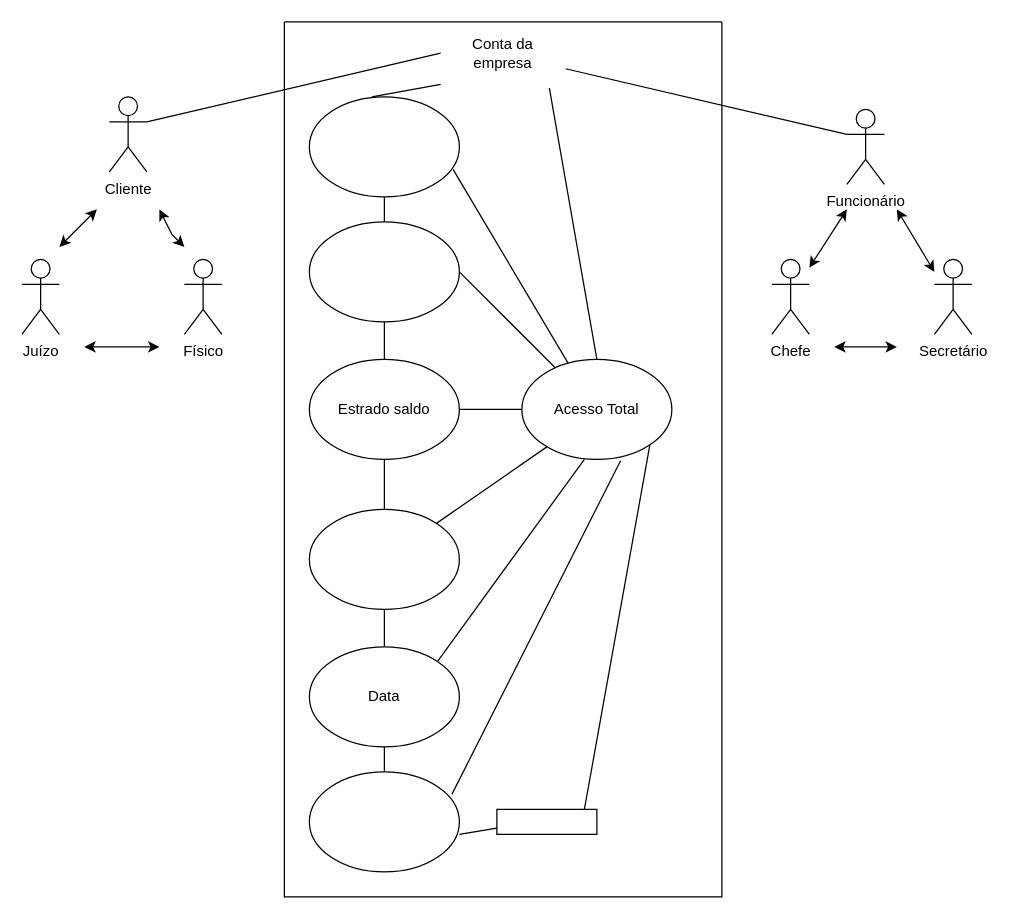
The diagram is 1009 pixels wide and 919 high, and some of its shapes have lost their labels. Here are the shapes that lost their labels. From the top down, the centre of each, then its label:
point 383,146: Acesso Conta
point 383,271: Histórico
point 383,558: Local
point 383,821: Confirmado
point 546,821: Check-in
